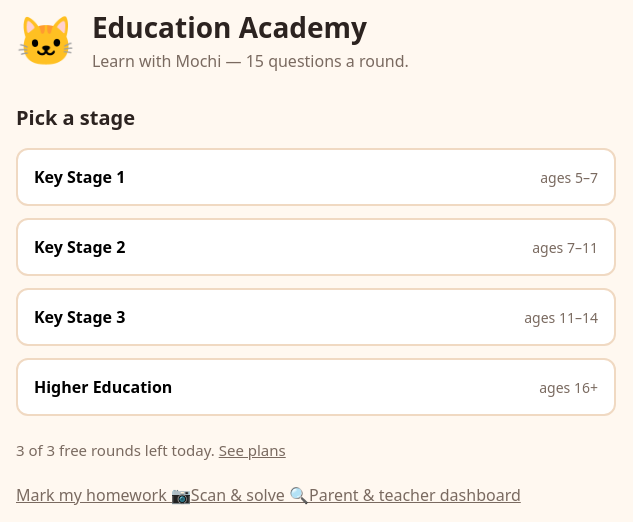
Test: paywall › sends a locked-out learner to the plans view from photo marking
The image size is (633, 522).
Step 1. Click the button "Mark my homework 📷" → coordinates (103, 495), box [16, 484, 191, 506]
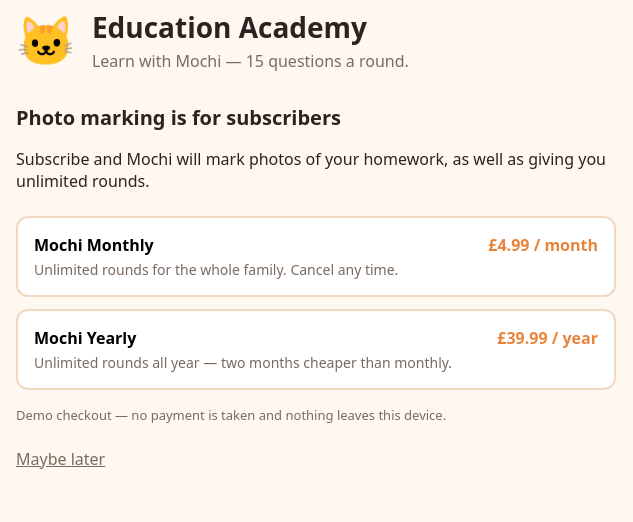
Result: the heading "Photo marking is for subscribers" is shown at [16, 104, 341, 131]
